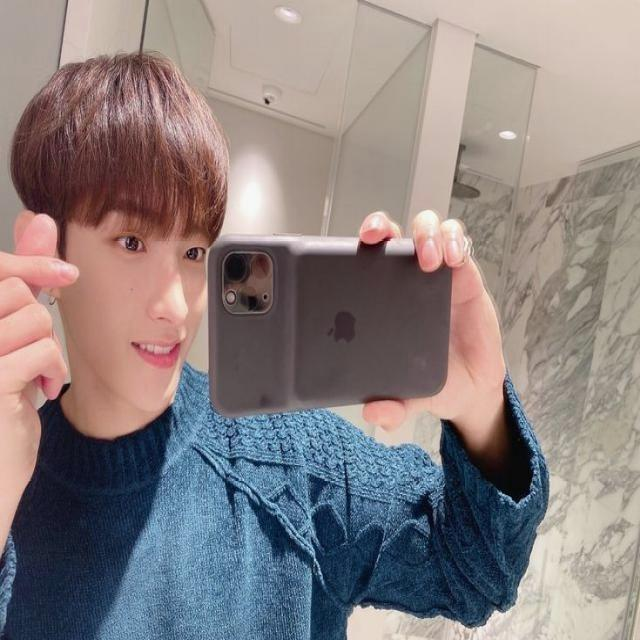lens: (220, 252, 274, 314)
phone: (197, 236, 457, 425)
